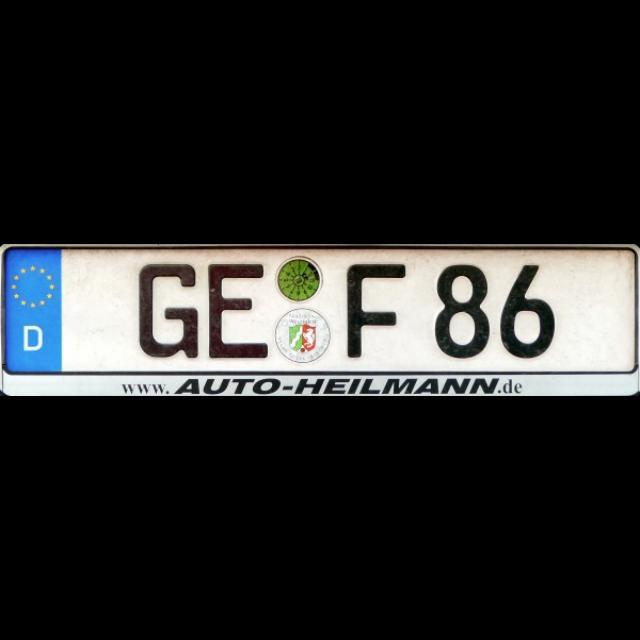license-plates: (0, 245, 640, 396)
